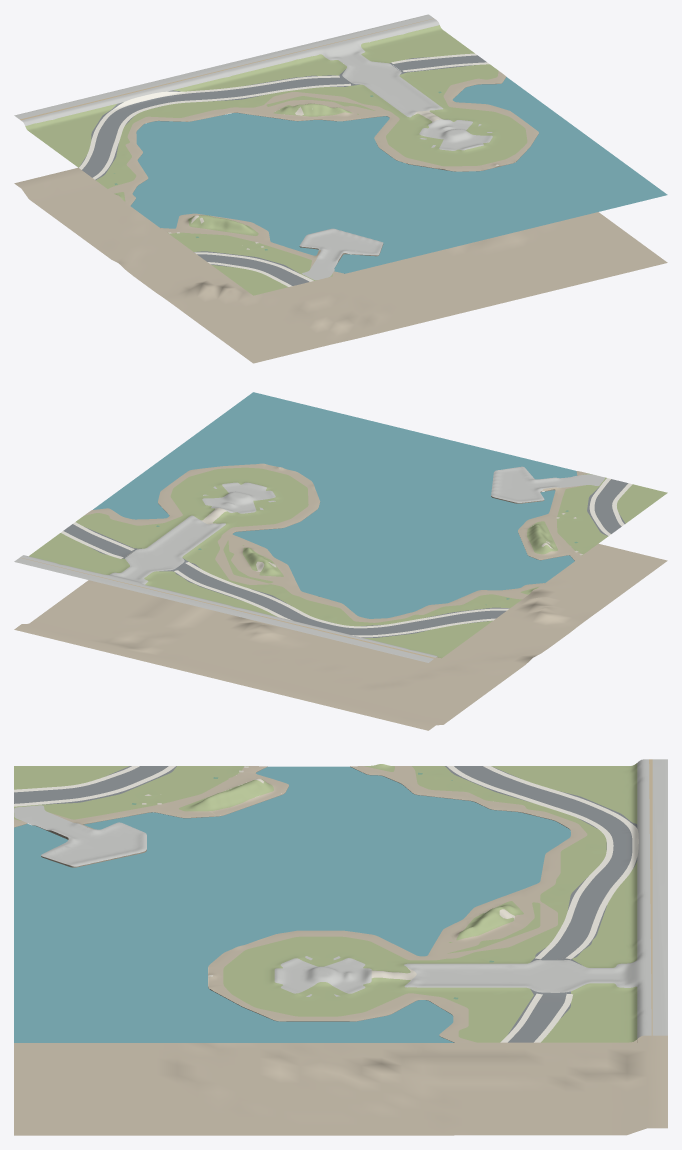
3 renders of one model, top to bottom at view 1: azimuth 30°, elevation 25°; view 2: azimuth 150°, elevation 25°; view 3: azimuth 270°, elevation 25°, orthographic. The views are drawn at different scales.
Parts seen in each view (by area): view 1: s_-8_1__water, s_-8_1__soil, s_-8_1__grass, s_-8_1__stone_paving, s_-8_1__asphalt, s_-8_1__white_marking, s_-8_1__timber_deck; view 2: s_-8_1__water, s_-8_1__soil, s_-8_1__grass, s_-8_1__stone_paving, s_-8_1__asphalt, s_-8_1__white_marking, s_-8_1__timber_deck; view 3: s_-8_1__water, s_-8_1__soil, s_-8_1__grass, s_-8_1__stone_paving, s_-8_1__asphalt, s_-8_1__white_marking, s_-8_1__timber_deck, s_-8_1__shore_bank, s_-8_1__paving.
Boxes of the visible parts, x1,y1,x2,y2 form: s_-8_1__water: (130,77,667,273); s_-8_1__soil: (14,71,667,363); s_-8_1__grass: (25,25,527,295); s_-8_1__stone_paving: (14,14,492,280); s_-8_1__asphalt: (80,55,486,285); s_-8_1__white_marking: (79,53,489,286); s_-8_1__timber_deck: (20,18,433,120); s_-8_1__water: (93,392,576,618); s_-8_1__soil: (14,463,667,730); s_-8_1__grass: (29,467,667,658); s_-8_1__stone_paving: (14,466,604,662); s_-8_1__asphalt: (63,479,628,637); s_-8_1__white_marking: (61,478,632,637); s_-8_1__timber_deck: (20,557,434,658); s_-8_1__water: (14,766,570,1042); s_-8_1__soil: (14,766,667,1135); s_-8_1__grass: (14,763,637,1042); s_-8_1__stone_paving: (14,759,667,1038); s_-8_1__asphalt: (14,766,637,1042); s_-8_1__white_marking: (14,766,638,1042); s_-8_1__timber_deck: (649,759,652,1035); s_-8_1__shore_bank: (14,766,569,1042); s_-8_1__paving: (142,766,514,985).
Size of the model in its own units: 128 by 22.1 by 128.
